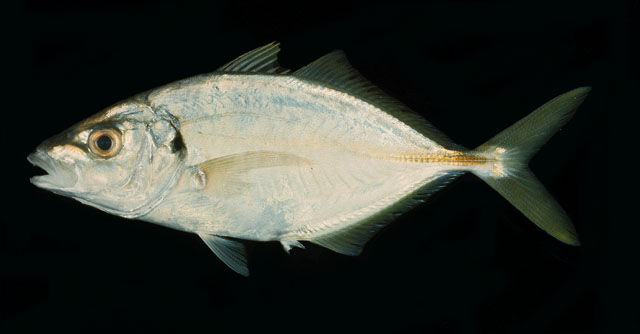fish: (26, 40, 591, 277)
